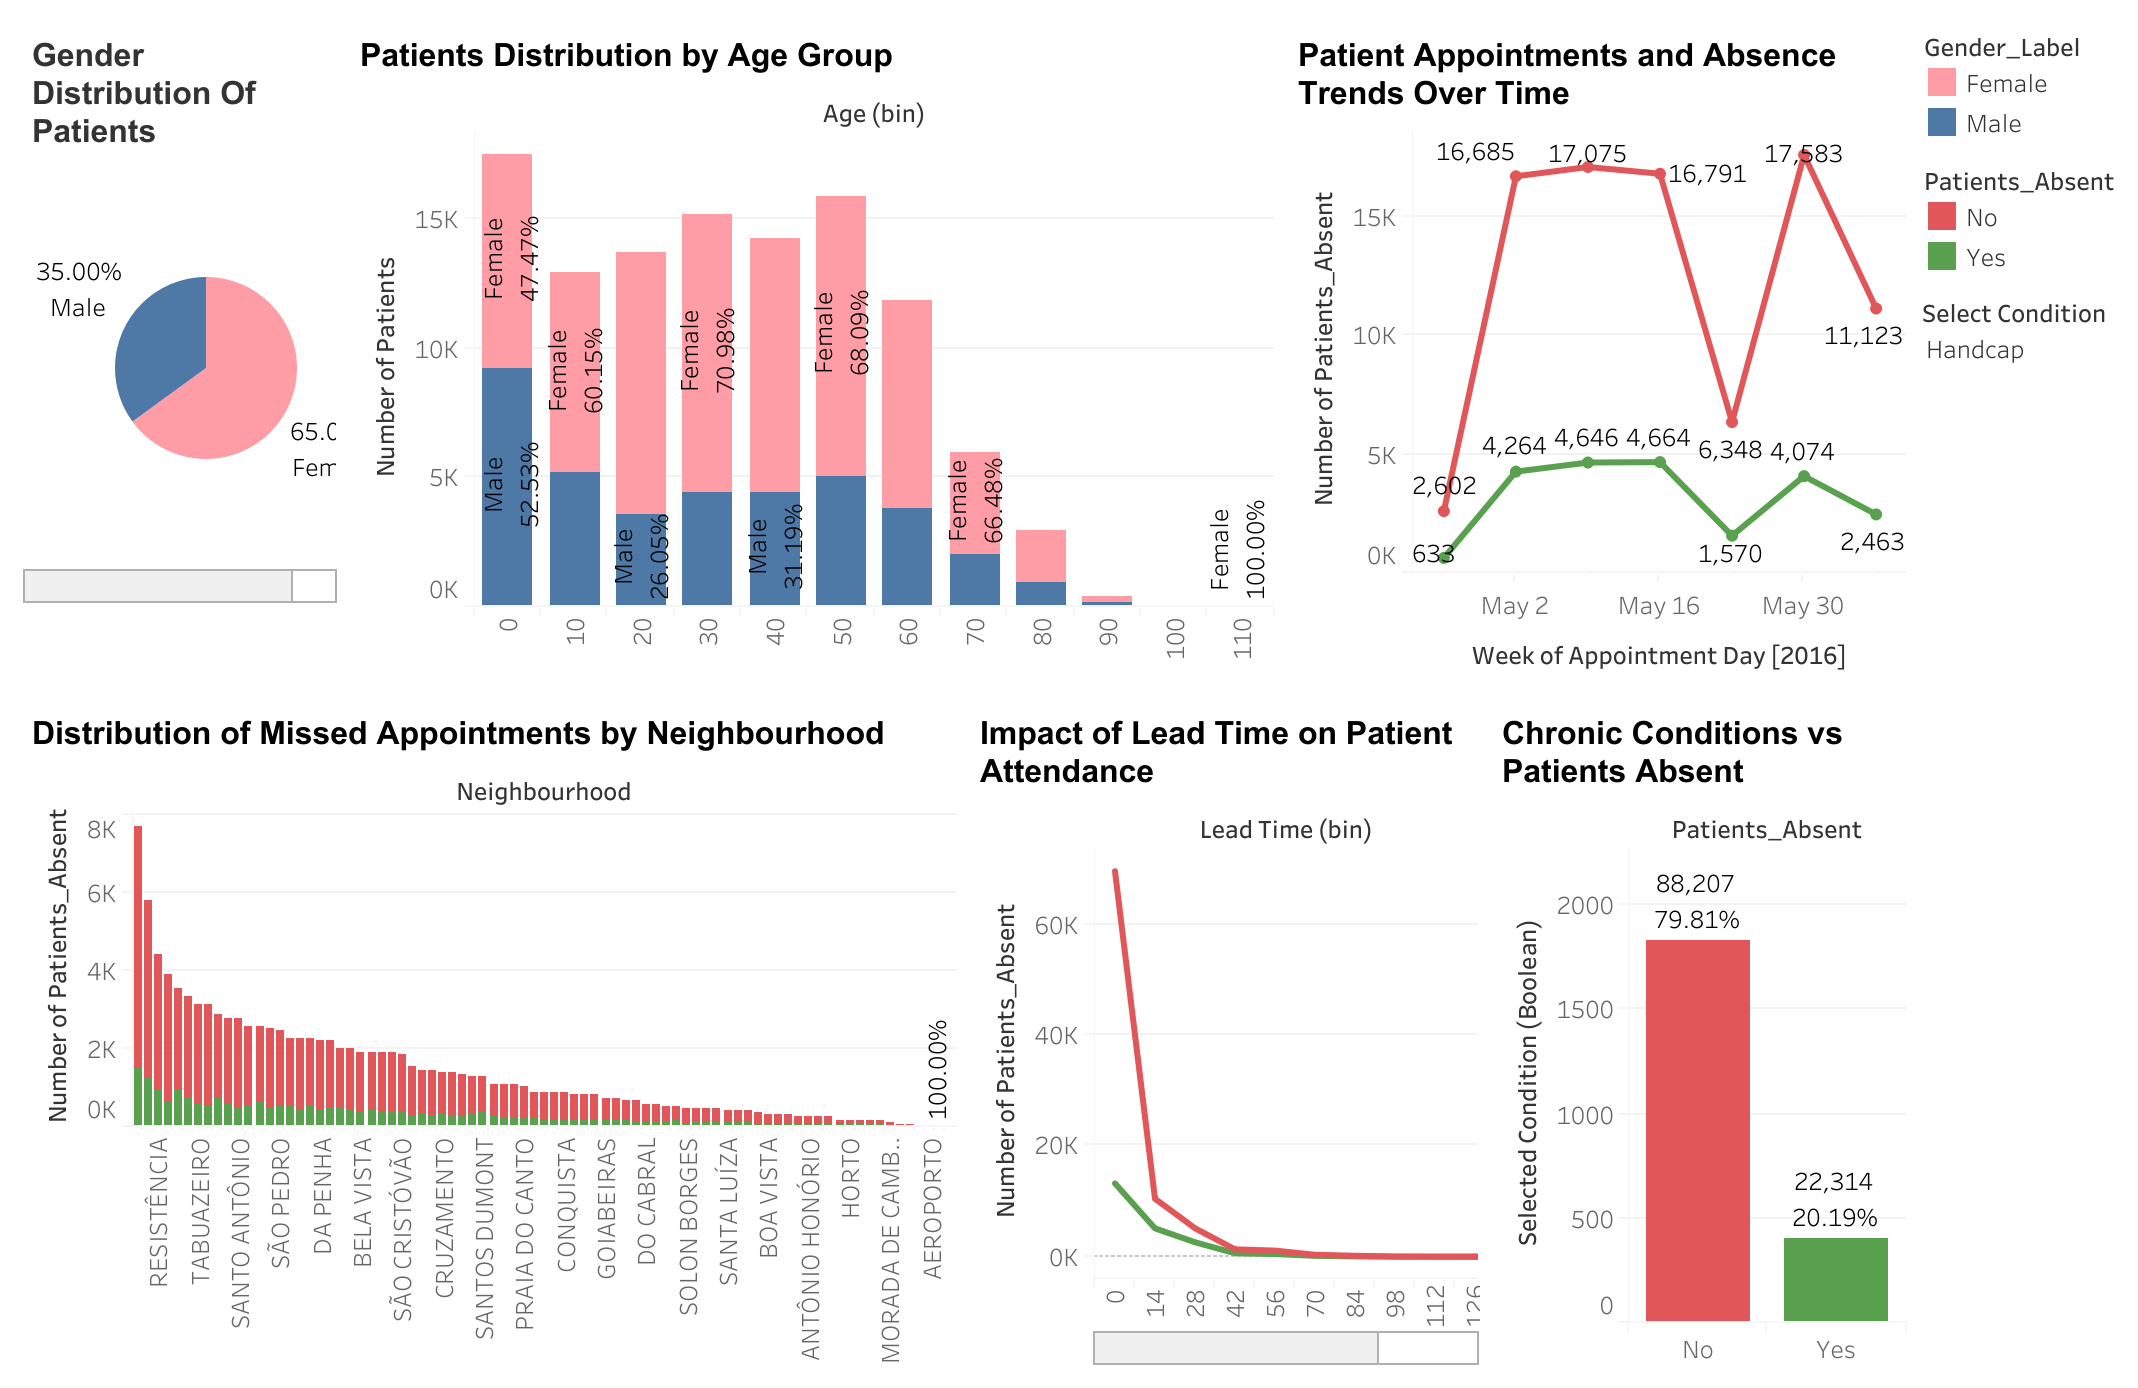

This screenshot's page, from the dashboard's own definition file:
{"tool":"tableau","page":{"name":"Patient_Appointment_Attendance","canvas":[1000,1000],"units":"permille","ordinal":0},"visuals":[{"type":"worksheet","title":"Sheet 4","mark":"Pie","box":[5.7,11.2,158,488.8]},{"type":"worksheet","title":"Sheet 1","mark":"Automatic","rows":["No-show"],"cols":["Age (bin)"],"box":[163.7,11.2,451.8,488.8]},{"type":"worksheet","title":"Sheet 6","mark":"Automatic","rows":["No-show"],"cols":["AppointmentDay"],"box":[615.5,11.2,303.8,488.8]},{"type":"legend","title":"Sheet 1","param":"[federated.0amlvhj0ttd9zg1607uah0qukgm6].[none:Calculation_606719334669332481:nk","box":[919.3,11.2,75,92.4]},{"type":"legend","title":"Sheet 2","param":"[federated.0amlvhj0ttd9zg1607uah0qukgm6].[none:No-show:nk]","box":[919.3,103.6,75,92.4]},{"type":"parameter","param":"[Parameters].[Parameter 1]","box":[919.3,196.1,75,72.8]},{"type":"worksheet","title":"Sheet 2","mark":"Automatic","rows":["No-show"],"cols":["Neighbourhood"],"box":[5.7,500,456.8,488.8]},{"type":"worksheet","title":"Sheet 3","mark":"Line","rows":["No-show"],"cols":["Lead Time (bin)"],"box":[462.5,500,250.4,488.8]},{"type":"worksheet","title":"Sheet 5","mark":"Automatic","rows":["Calculation_606719334688186370"],"cols":["No-show"],"box":[712.9,500,206.4,488.8]}]}

Visuals, with their boxes on the dashboard's canvas, which has no fixed pixel size, in thousandths of its width and height (x1, y1, x2, y2). These are canvas units, not pixel positions in the 2138x1388 screenshot, which may show the page scaled, cropped or inside an application window:
"Sheet 4" worksheet (Pie marks): (x1=6, y1=11, x2=164, y2=500)
"Sheet 1" worksheet: (x1=164, y1=11, x2=616, y2=500)
"Sheet 6" worksheet: (x1=616, y1=11, x2=919, y2=500)
"Sheet 1" legend: (x1=919, y1=11, x2=994, y2=104)
"Sheet 2" legend: (x1=919, y1=104, x2=994, y2=196)
parameter: (x1=919, y1=196, x2=994, y2=269)
"Sheet 2" worksheet: (x1=6, y1=500, x2=462, y2=989)
"Sheet 3" worksheet (Line marks): (x1=462, y1=500, x2=713, y2=989)
"Sheet 5" worksheet: (x1=713, y1=500, x2=919, y2=989)
